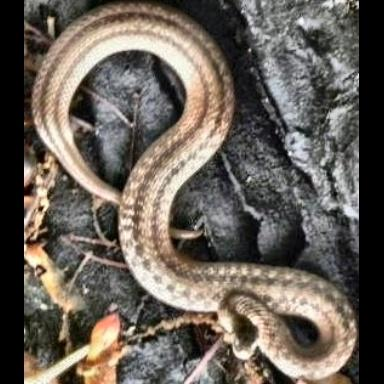snake: (26, 3, 356, 384)
